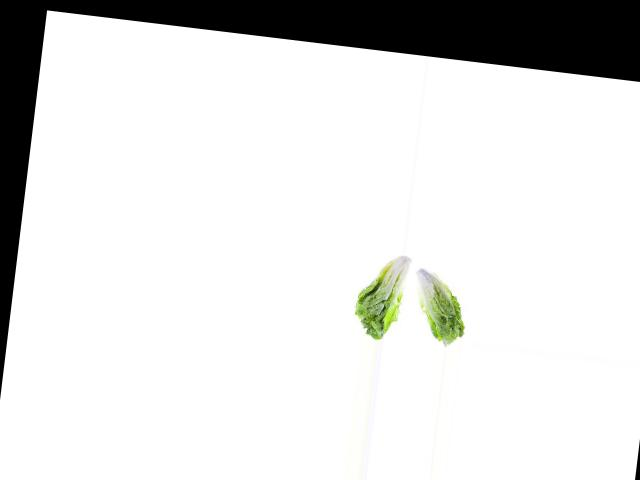lettuce: (407, 259, 474, 346)
